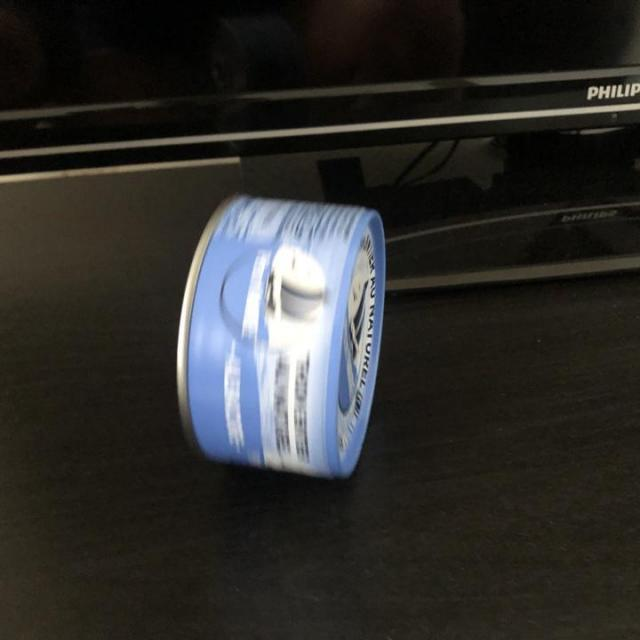recyclable: (171, 188, 391, 488)
